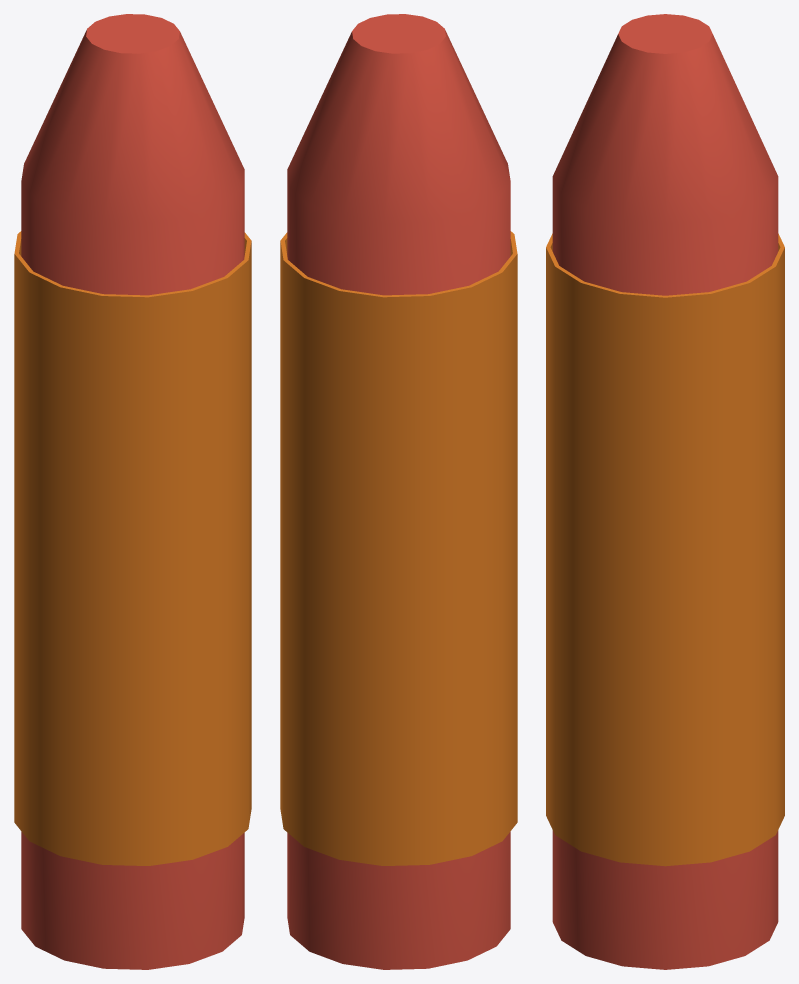
File: toy_crayon.fbx
3 views of the same model, side by side, from view 1: azimuth 30°, elevation 25°; view 2: azimuth 150°, elevation 25°; view 3: azimuth 270°, elevation 25° (orthographic).
Parts seen in each view (by area): view 1: orange_1, wax_1; view 2: orange_1, wax_1; view 3: orange_1, wax_1.
Part boxes in pixels (x1,y1,x2,y2): orange_1: [14, 231, 251, 865]; wax_1: [21, 14, 244, 969]; orange_1: [280, 231, 517, 865]; wax_1: [287, 14, 510, 969]; orange_1: [546, 233, 784, 866]; wax_1: [552, 14, 778, 969].
Bounding box in the file's own units: 0.0585 × 0.24 × 0.0585.
